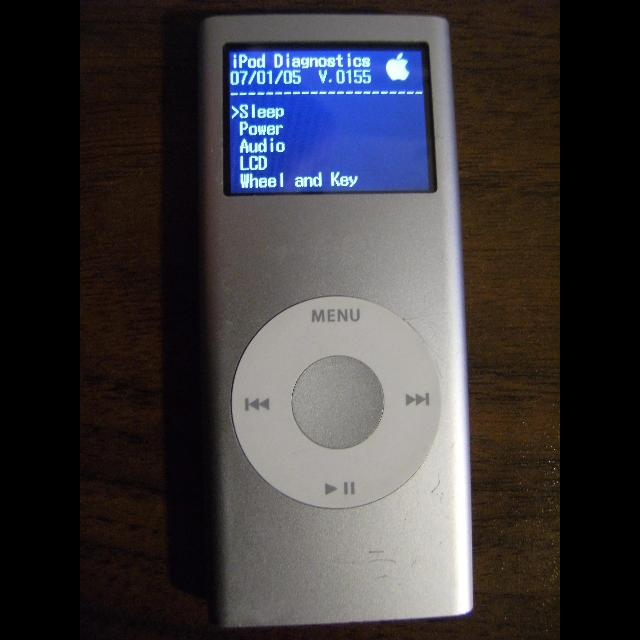Music-Player: (181, 5, 487, 633)
